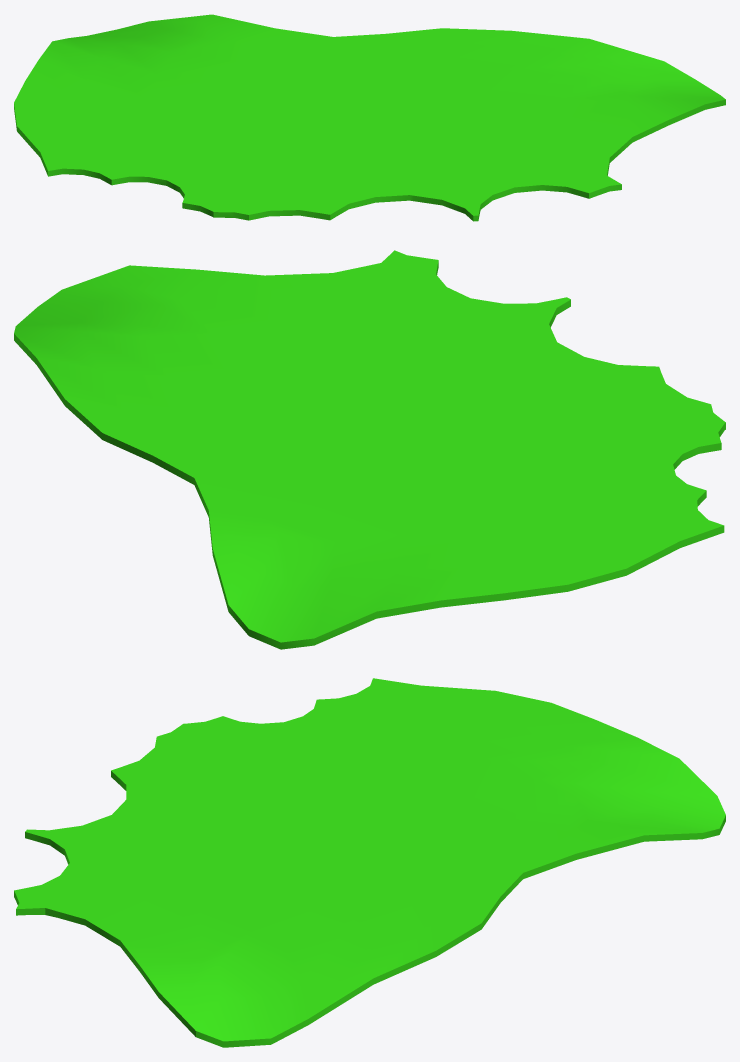
The model's file is salad_4.fbx.
3 renders of one model, top to bottom at view 1: azimuth 30°, elevation 25°; view 2: azimuth 150°, elevation 25°; view 3: azimuth 270°, elevation 25°, orthographic. The views are drawn at different scales.
Parts seen in each view (by area): view 1: Salad_0.004; view 2: Salad_0.004; view 3: Salad_0.004.
Part boxes in pixels (x1,y1,x2,y2): Salad_0.004: (14, 14, 725, 221); Salad_0.004: (14, 250, 725, 649); Salad_0.004: (14, 678, 725, 1047).
Size of the model in its own units: 264 by 13.1 by 236.
